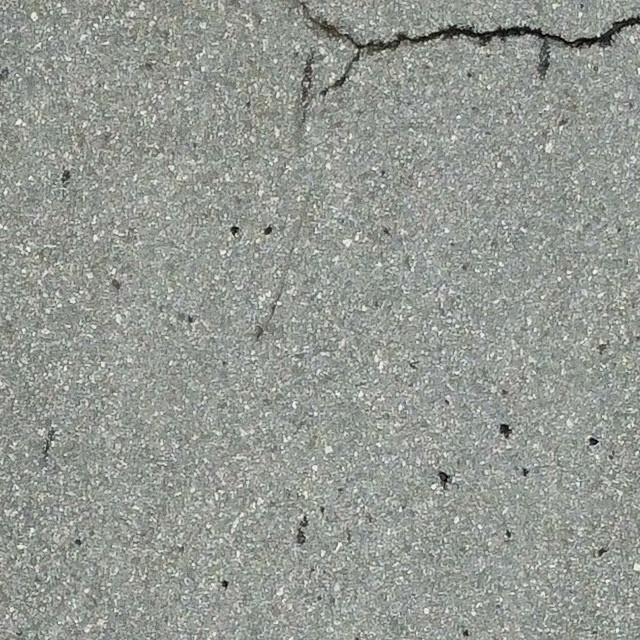TransverseCrack: (295, 1, 640, 121)
